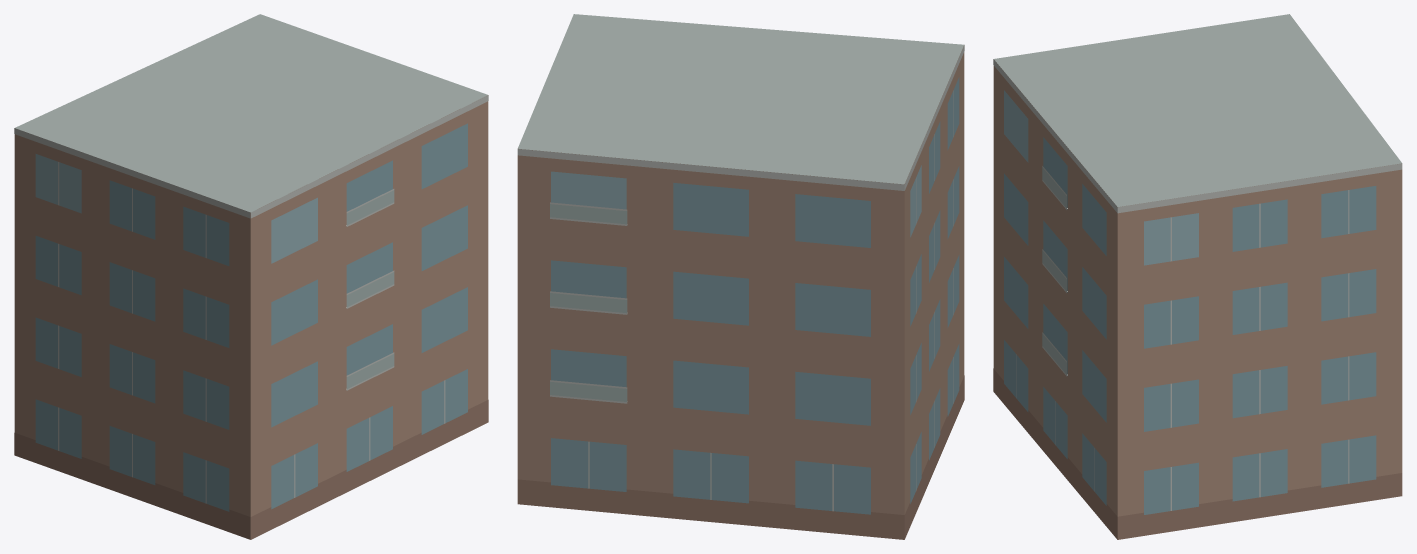
File: survey-upis-32698187.glb
The picture shows the model from 3 angles, left to right: view 1: azimuth 30°, elevation 25°; view 2: azimuth 150°, elevation 25°; view 3: azimuth 270°, elevation 25°; orthographic projection. The views are drawn at different scales.
Visible parts, largest first — view 1: survey-upis-32698187.tmp; view 2: survey-upis-32698187.tmp; view 3: survey-upis-32698187.tmp.
Boxes of the visible parts, x1,y1,x2,y2 form: survey-upis-32698187.tmp: (14,14,488,539); survey-upis-32698187.tmp: (517,14,964,539); survey-upis-32698187.tmp: (993,14,1402,539).
Bounding box in the file's own units: 16.25 × 13.05 × 14.54.
